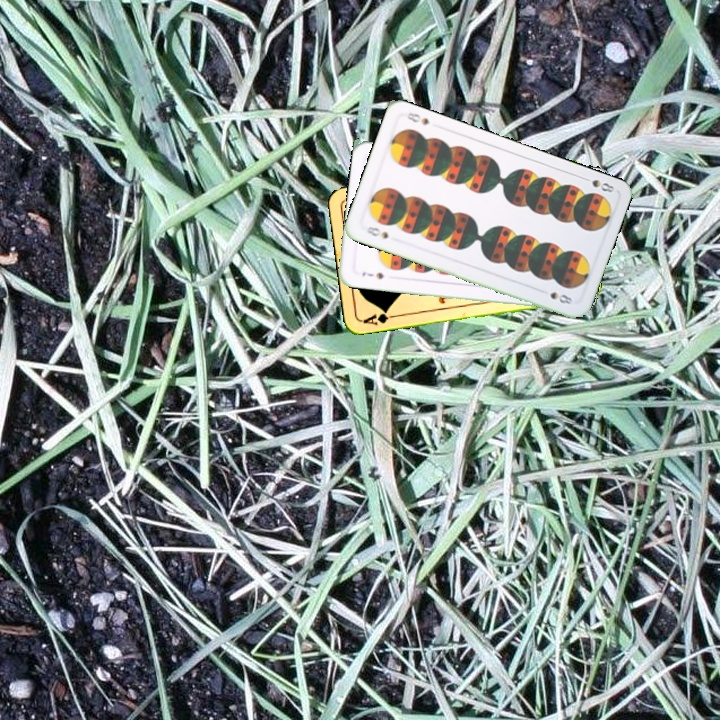GA: (358, 306, 399, 328)
S7: (358, 268, 386, 282)
S8: (578, 173, 617, 195), (361, 222, 391, 241)
